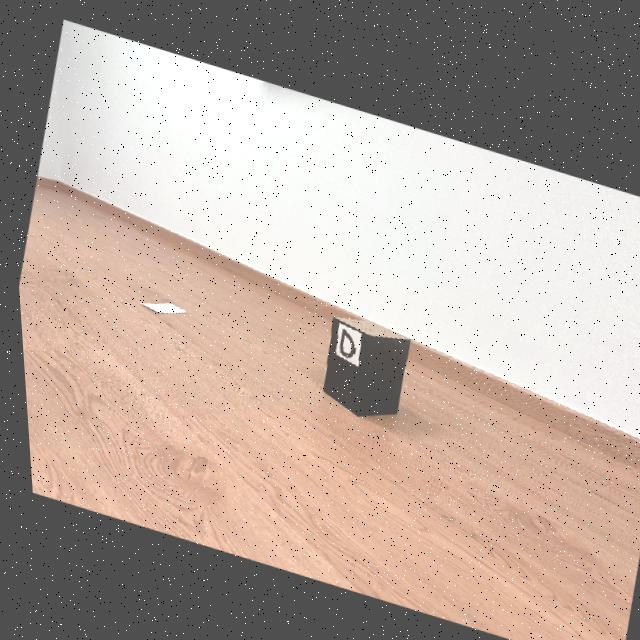D: (335, 322, 350, 352)
